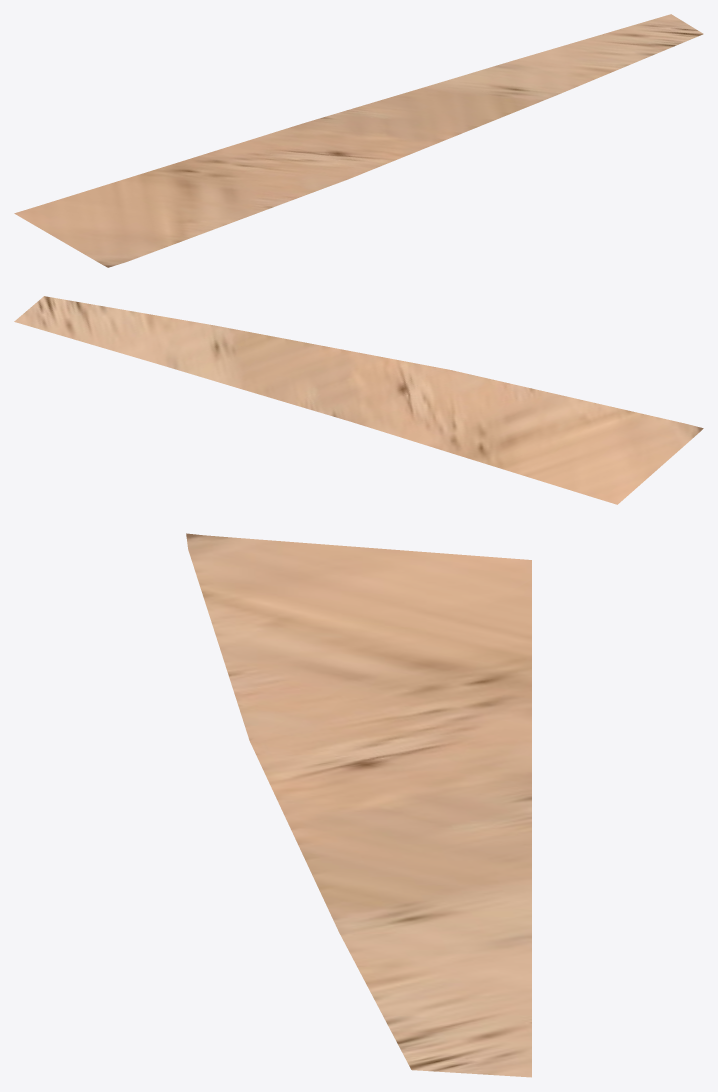
3 renders of one model, top to bottom at view 1: azimuth 30°, elevation 25°; view 2: azimuth 150°, elevation 25°; view 3: azimuth 270°, elevation 25°, orthographic. The views are drawn at different scales.
Bounding box in the file's own units: 1.04 × 0.0653 × 0.2591.
Materials: 1 (1 with a texture image).
